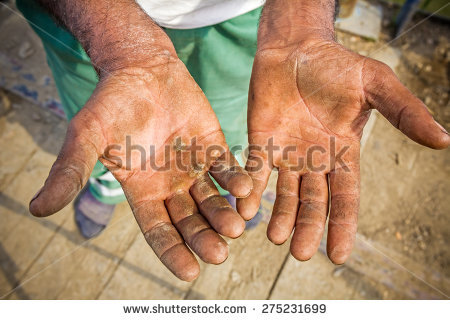palm: (253, 47, 372, 167), (103, 79, 218, 187)
